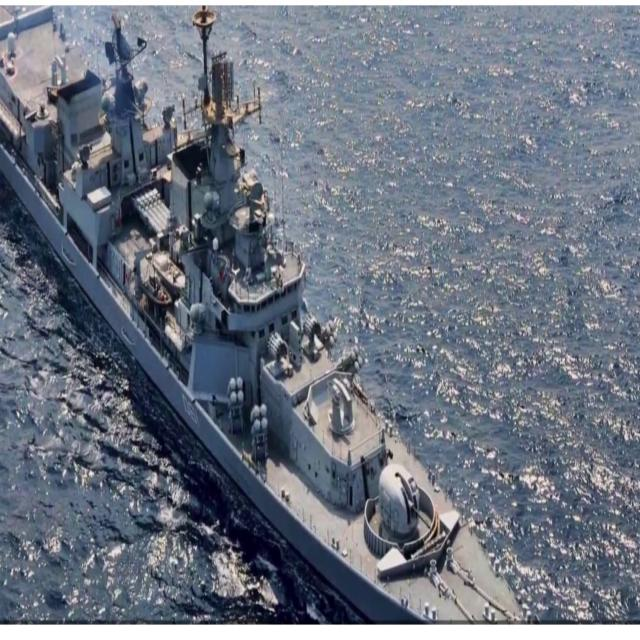OCR: (177, 388, 204, 436)
